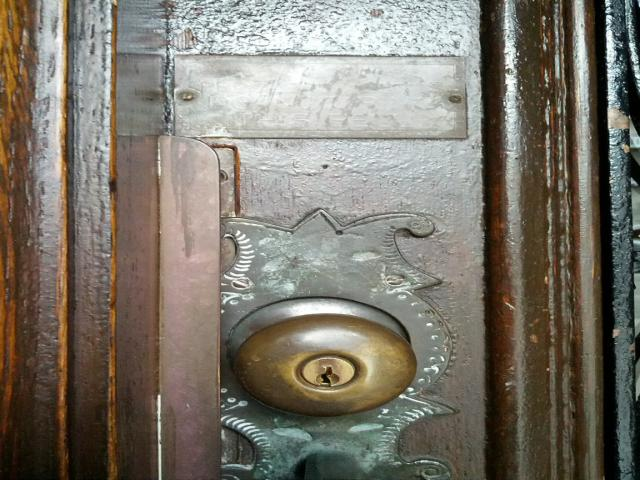Door-handle: (221, 208, 457, 479)
